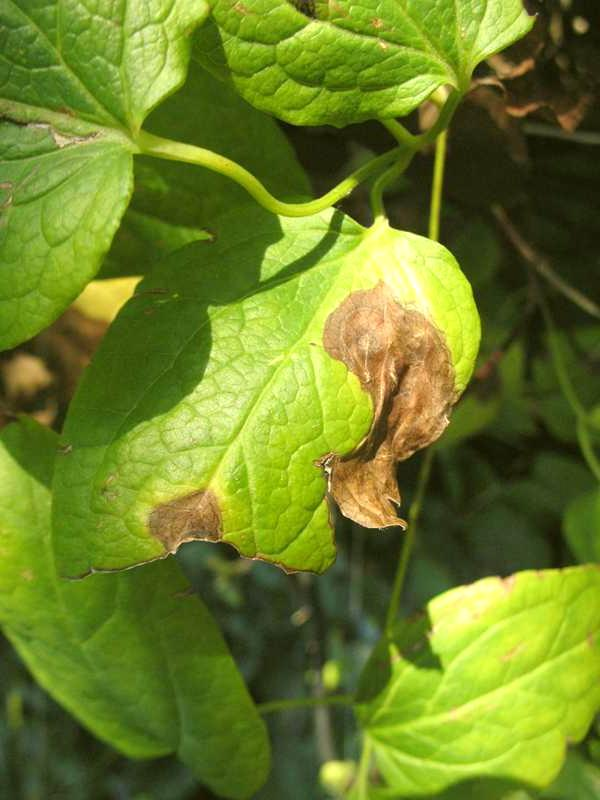Tomato leaf bacterial spot: (48, 201, 504, 583)
